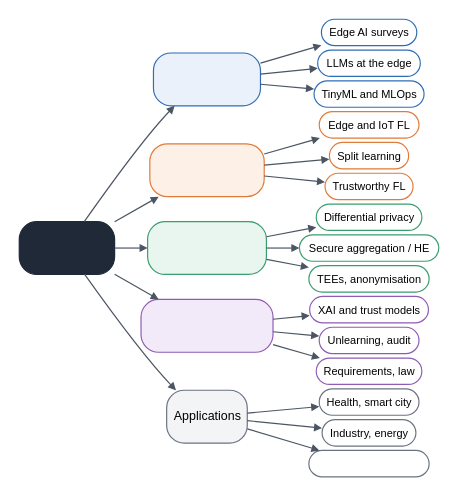
The diagram is 459 pixels wide and 497 high, and some of its shapes have lost their labels. The shapes that lost their labels are listed below. From the top down, each one's centre as x and y in pixels, then its label:
At (206,79): "Edge intelligence".
At (206,170): "Federated learning".
At (66,248): "Privacy-aware cloud-edge intelligence".
At (207,248): "Privacy techniques".
At (206,325): "Trust and governance".
At (368,463): "Transport, agriculture".
